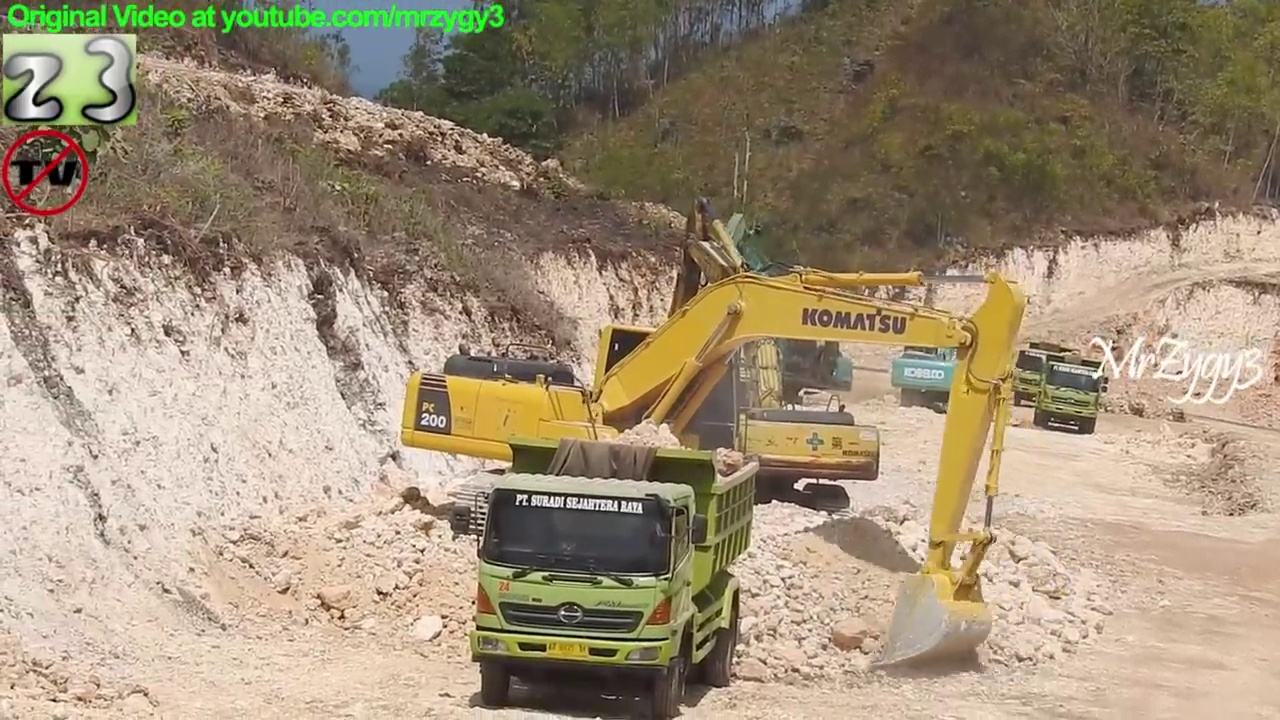excavator: (395, 259, 1027, 679), (631, 196, 889, 527), (691, 207, 858, 424), (889, 275, 993, 414)
truck: (448, 434, 762, 720), (1031, 354, 1113, 438), (1007, 337, 1085, 412)
